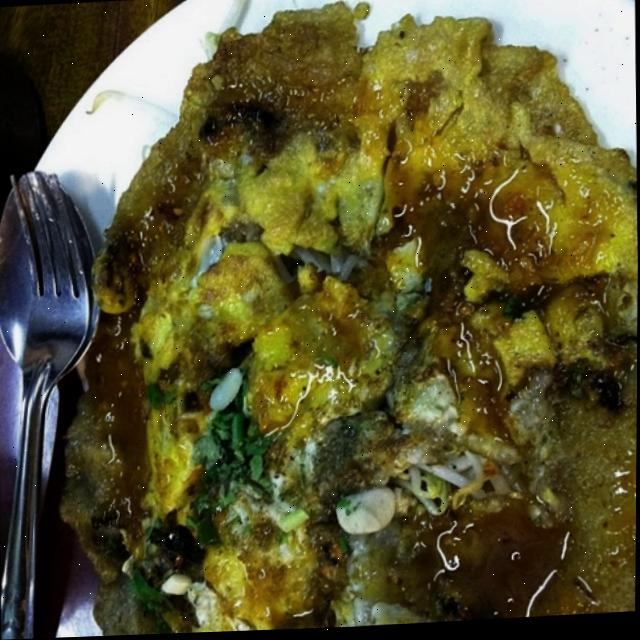炸货点心: (28, 0, 637, 622)
蛋糕甜品: (28, 0, 637, 622)
